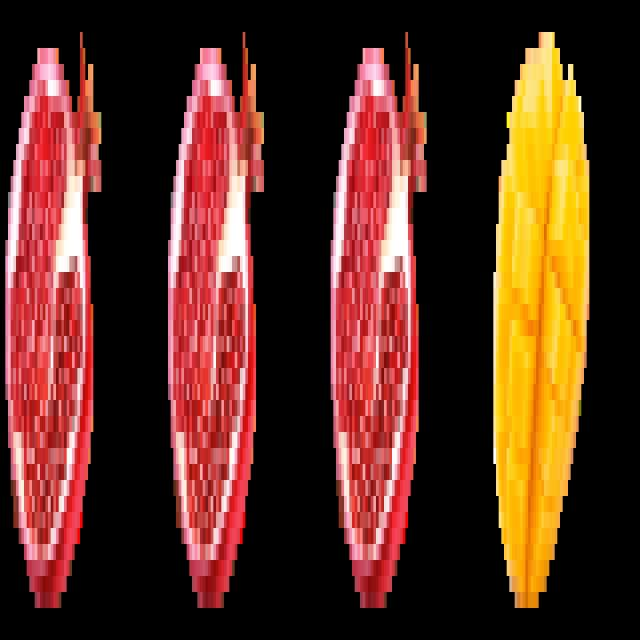mango: (494, 13, 590, 620)
pomegranate: (163, 19, 268, 621), (326, 22, 431, 616), (5, 29, 100, 621)
